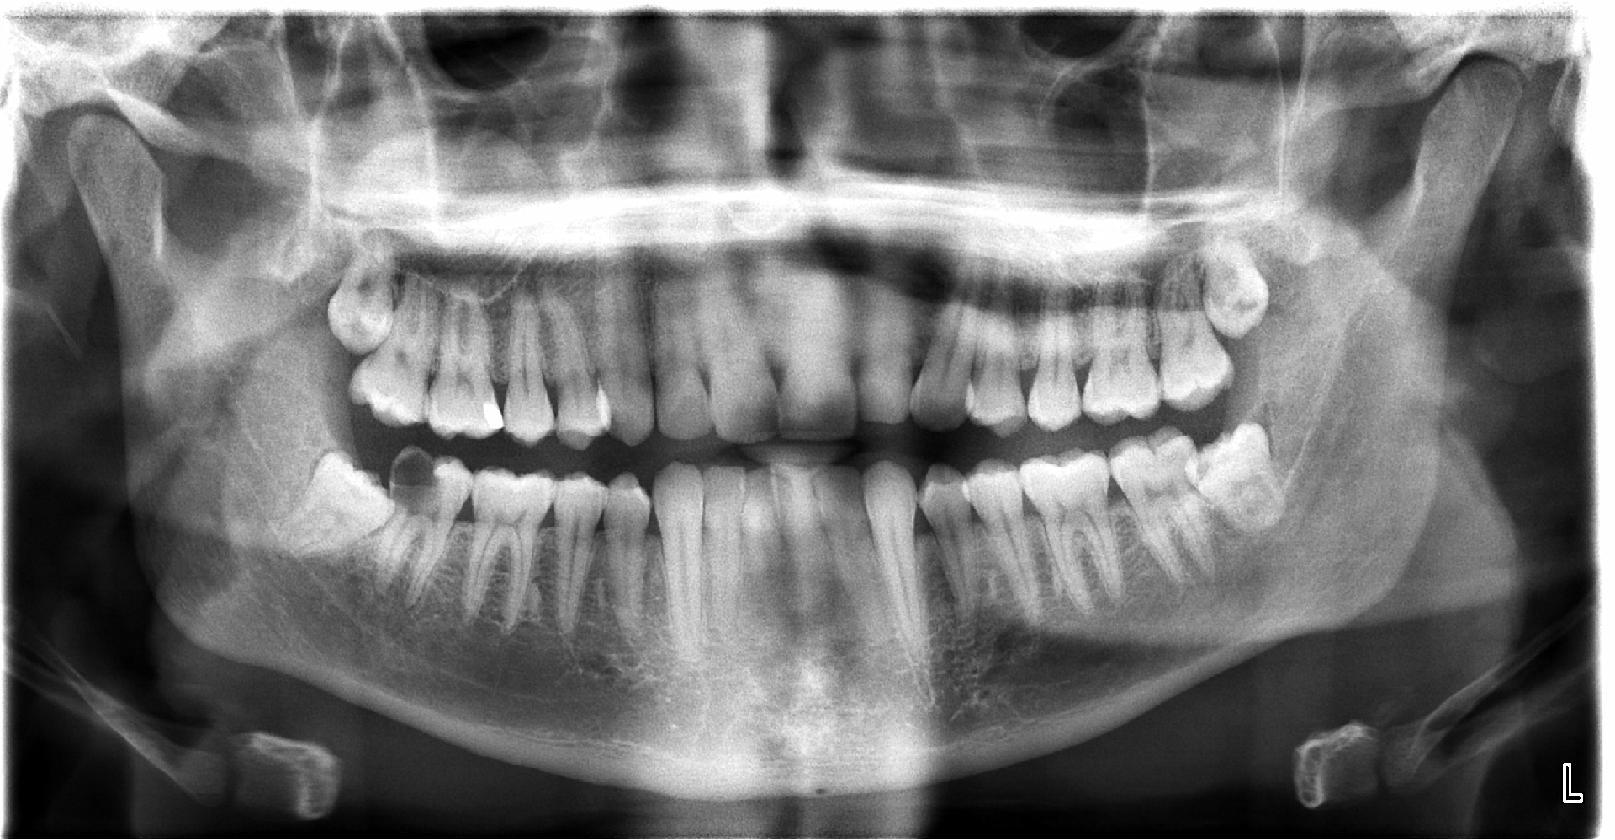Mesio-angular: (285, 442, 396, 588)
Vertical: (1185, 425, 1289, 538)
